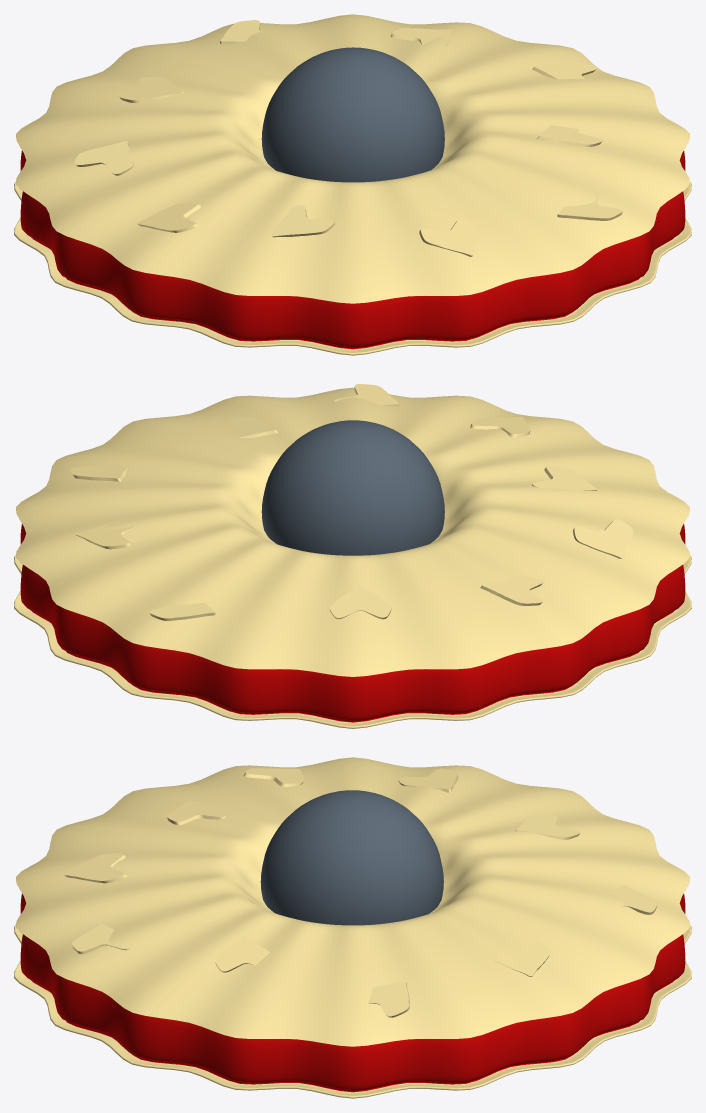
Rendered from jammie dogger ufo.fbx.
The picture shows the model from 3 angles, top to bottom: view 1: azimuth 30°, elevation 25°; view 2: azimuth 150°, elevation 25°; view 3: azimuth 270°, elevation 25°; orthographic projection.
Visible parts, largest first — view 1: jammie_dogger_ufo, pSphere14, pCube9, pCube13, pCube11, pCube12, pCube14, pCube17, pCube10, pCube18, pCube19, pCube15; view 2: jammie_dogger_ufo, pSphere14, pCube12, pCube14, pCube13, pCube11, pCube19, pCube15, pCube9, pCube18, pCube10, pCube17; view 3: jammie_dogger_ufo, pSphere14, pCube9, pCube10, pCube18, pCube19, pCube14, pCube11, pCube13, pCube17, pCube12, pCube15.
Boxes of the visible parts, x1,y1,x2,y2 form: jammie_dogger_ufo: (14,14,691,355); pSphere14: (261,47,444,182); pCube9: (419,219,479,256); pCube13: (74,141,133,175); pCube11: (271,205,335,237); pCube12: (137,202,200,232); pCube14: (118,77,183,102); pCube17: (557,192,622,220); pCube10: (537,125,602,146); pCube18: (532,61,596,79); pCube19: (390,28,452,46); pCube15: (220,20,264,44); jammie_dogger_ufo: (14,387,691,728); pSphere14: (261,420,444,555); pCube12: (573,519,633,558); pCube14: (330,584,391,619); pCube13: (480,576,543,605); pCube11: (531,465,597,490); pCube19: (75,520,136,549); pCube15: (149,602,215,620); pCube9: (470,417,530,437); pCube18: (71,463,127,481); pCube10: (225,417,277,437); pCube17: (334,384,399,406); jammie_dogger_ufo: (14,757,691,1098); pSphere14: (260,790,443,925); pCube9: (63,853,127,883); pCube10: (215,936,269,972); pCube18: (367,981,409,1017); pCube19: (491,941,550,976); pCube14: (515,814,580,839); pCube11: (167,800,227,825); pCube13: (398,768,458,792); pCube17: (72,924,129,954); pCube12: (243,768,303,786); pCube15: (609,885,657,914).
Size of the model in its own units: 5.43 by 1.66 by 5.35.
